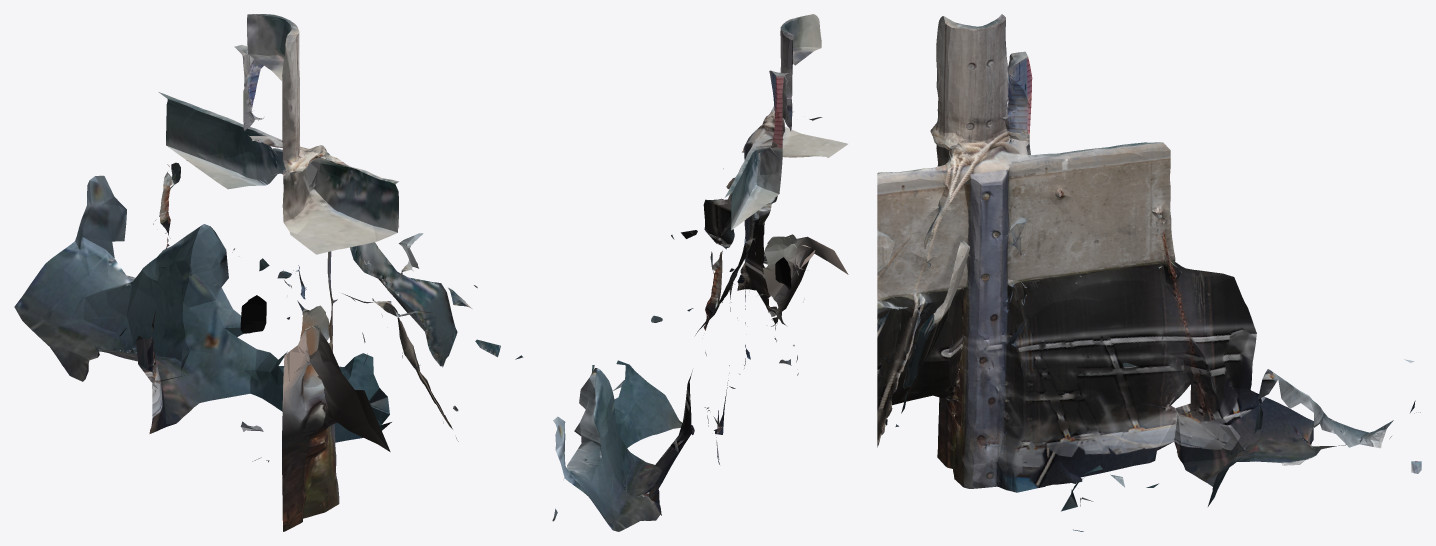
3 renders of one model, left to right at view 1: azimuth 30°, elevation 25°; view 2: azimuth 150°, elevation 25°; view 3: azimuth 270°, elevation 25°, orthographic. The views are drawn at different scales.
Size of the model in its own units: 1.74 by 3.76 by 4.18.
3 materials, 3 textured.
